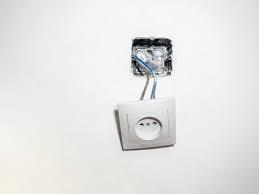broken socket: (115, 34, 178, 150)
